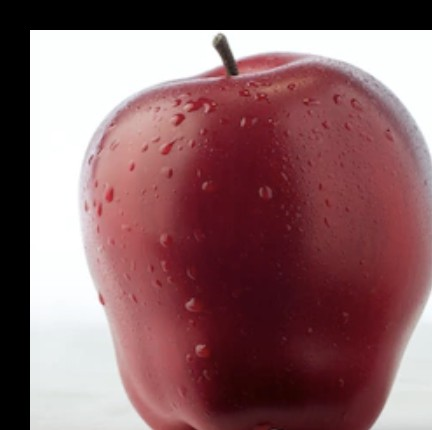fresh_apple: (80, 51, 432, 430)
